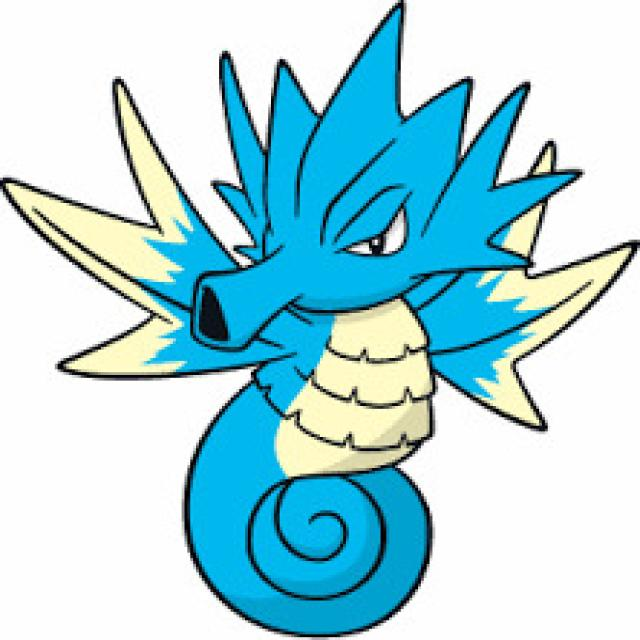Seadra: (105, 26, 567, 628)
